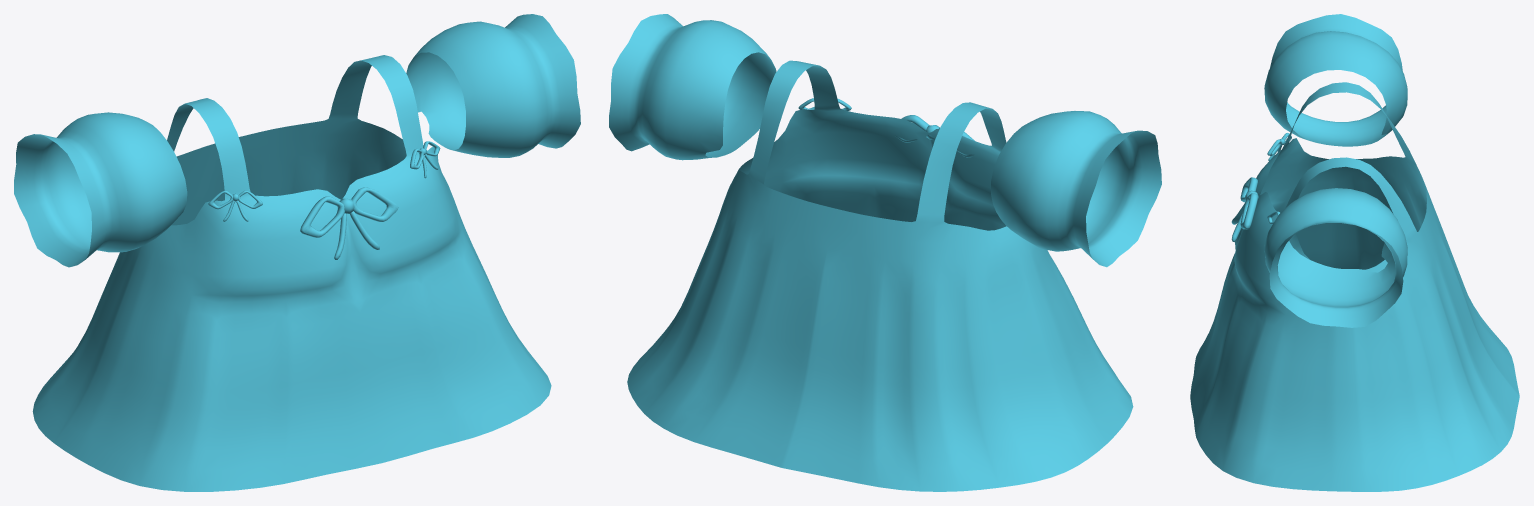
The model's file is Top_KoketteSleeves.fbx.
3 views of the same model, side by side, from view 1: azimuth 30°, elevation 25°; view 2: azimuth 150°, elevation 25°; view 3: azimuth 270°, elevation 25° (orthographic). The views are drawn at different scales.
Visible parts, largest first — view 1: Without_Sleeves.001, Ruffles, Cube.001, Cube.005; view 2: Without_Sleeves.001, Ruffles; view 3: Without_Sleeves.001, Ruffles, Cube.001.
Part boxes in pixels (box(x1,y1,x2,y2)): Without_Sleeves.001: box(32, 55, 551, 491); Ruffles: box(14, 14, 580, 267); Cube.001: box(300, 187, 398, 237); Cube.005: box(208, 141, 440, 221); Without_Sleeves.001: box(627, 60, 1133, 491); Ruffles: box(609, 14, 1161, 267); Without_Sleeves.001: box(1190, 82, 1519, 491); Ruffles: box(1264, 14, 1407, 327); Cube.001: box(1240, 177, 1258, 229).
Bounding box in the file's own units: 119 × 75.11 × 79.29.
